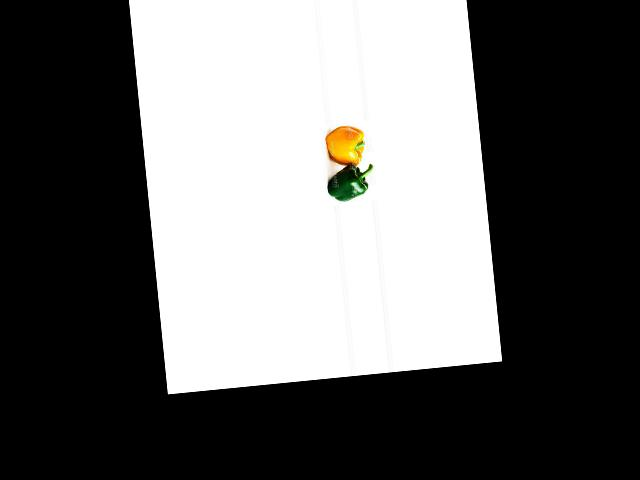bell_pepper: (319, 163, 372, 206)
